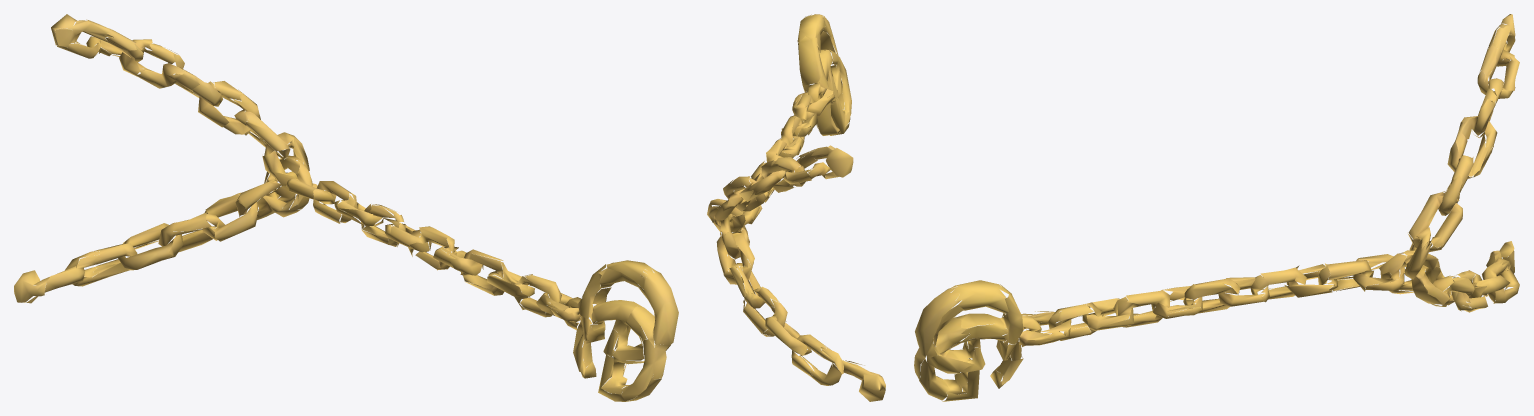
File: gold-chain.glb
3 views of the same model, side by side, from view 1: azimuth 30°, elevation 25°; view 2: azimuth 150°, elevation 25°; view 3: azimuth 270°, elevation 25° (orthographic). The views are drawn at different scales.
Visible parts, largest first — view 1: ACC_gold-chain; view 2: ACC_gold-chain; view 3: ACC_gold-chain.
Boxes of the visible parts, bbox=[...] form: ACC_gold-chain: bbox=[14, 14, 678, 401]; ACC_gold-chain: bbox=[707, 14, 885, 401]; ACC_gold-chain: bbox=[914, 14, 1519, 401].
Size of the model in its own units: 0.1399 by 0.1001 by 0.1965.
1 material, 1 textured.
